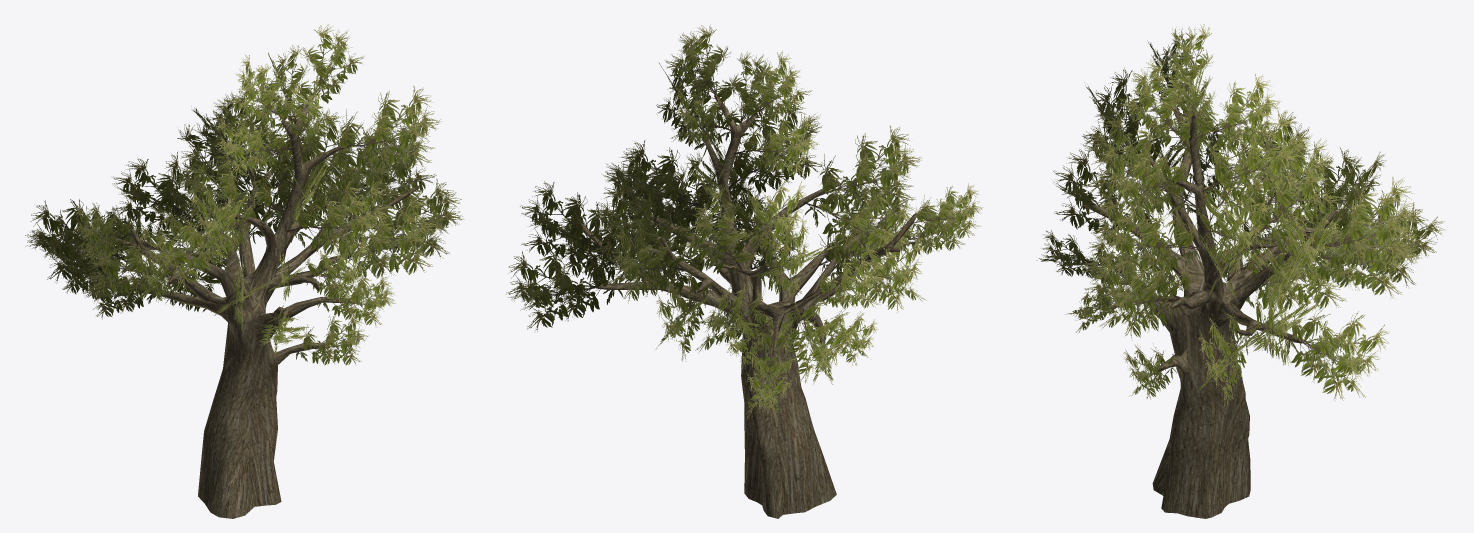
The model's file is chestnutTree.dae.
The picture shows the model from 3 angles, left to right: view 1: azimuth 30°, elevation 25°; view 2: azimuth 150°, elevation 25°; view 3: azimuth 270°, elevation 25°; orthographic projection. The views are drawn at different scales.
Parts seen in each view (by area): view 1: Chestnut; view 2: Chestnut; view 3: Chestnut.
Boxes of the visible parts, box(x1,y1,x2,y2) form: Chestnut: box(25, 24, 464, 518); Chestnut: box(506, 24, 983, 518); Chestnut: box(1036, 24, 1445, 518).
Size of the model in its own units: 1.49 by 1.5 by 1.17.
Materials: 1 (1 with a texture image).
